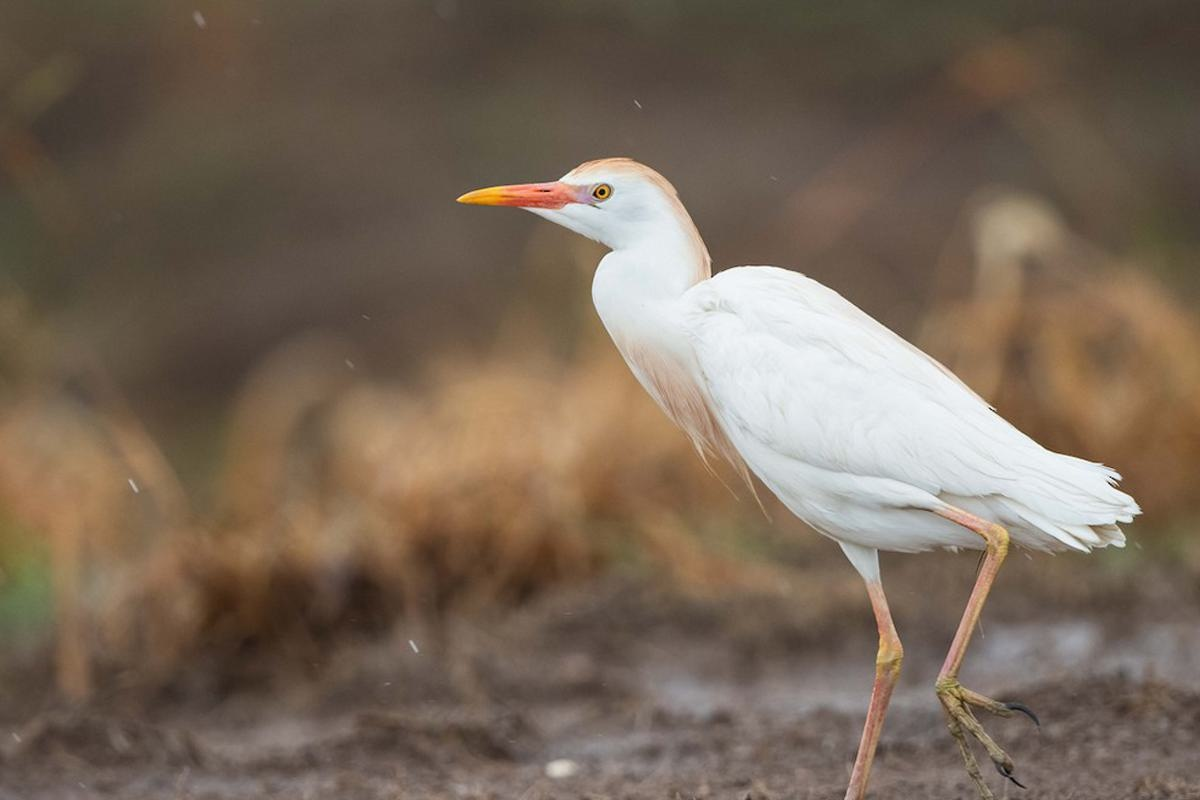egret: (466, 150, 1161, 764)
